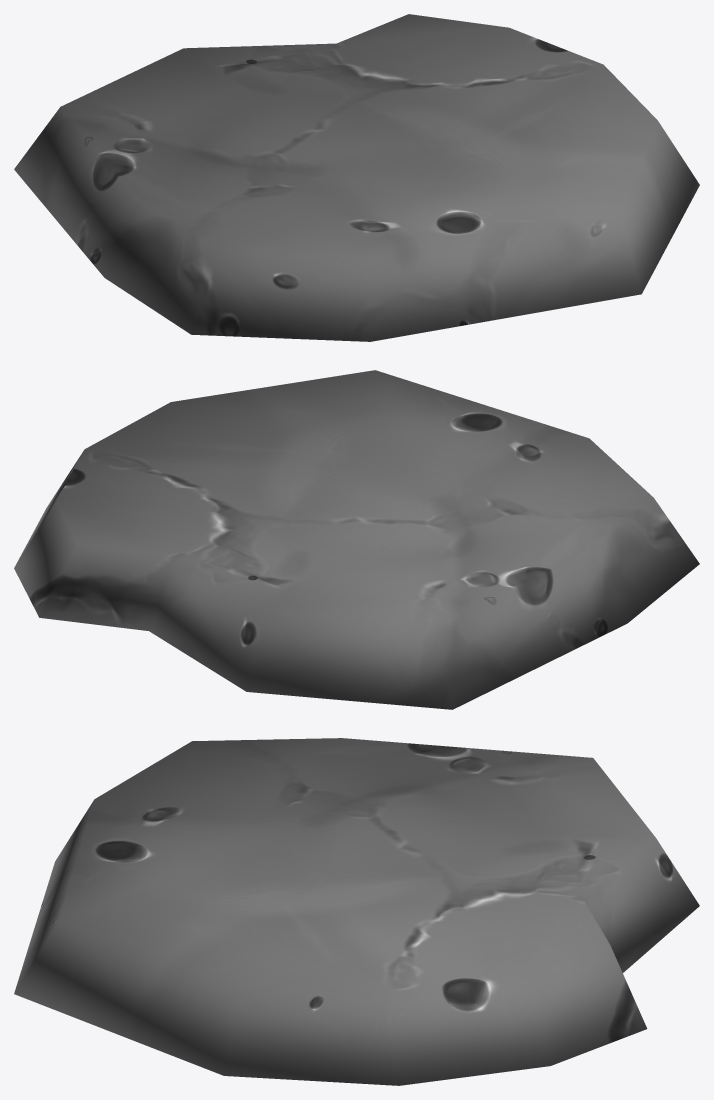
Rendered from stone-4.glb.
3 renders of one model, top to bottom at view 1: azimuth 30°, elevation 25°; view 2: azimuth 150°, elevation 25°; view 3: azimuth 270°, elevation 25°, orthographic. The views are drawn at different scales.
Parts seen in each view (by area): view 1: SM_PROP_stone_04; view 2: SM_PROP_stone_04; view 3: SM_PROP_stone_04.
Part boxes in pixels (x1,y1,x2,y2): SM_PROP_stone_04: (14, 14, 699, 341); SM_PROP_stone_04: (14, 370, 699, 709); SM_PROP_stone_04: (14, 738, 699, 1085).
Size of the model in its own units: 1.82 by 0.2126 by 1.79.
1 material, 1 textured.
